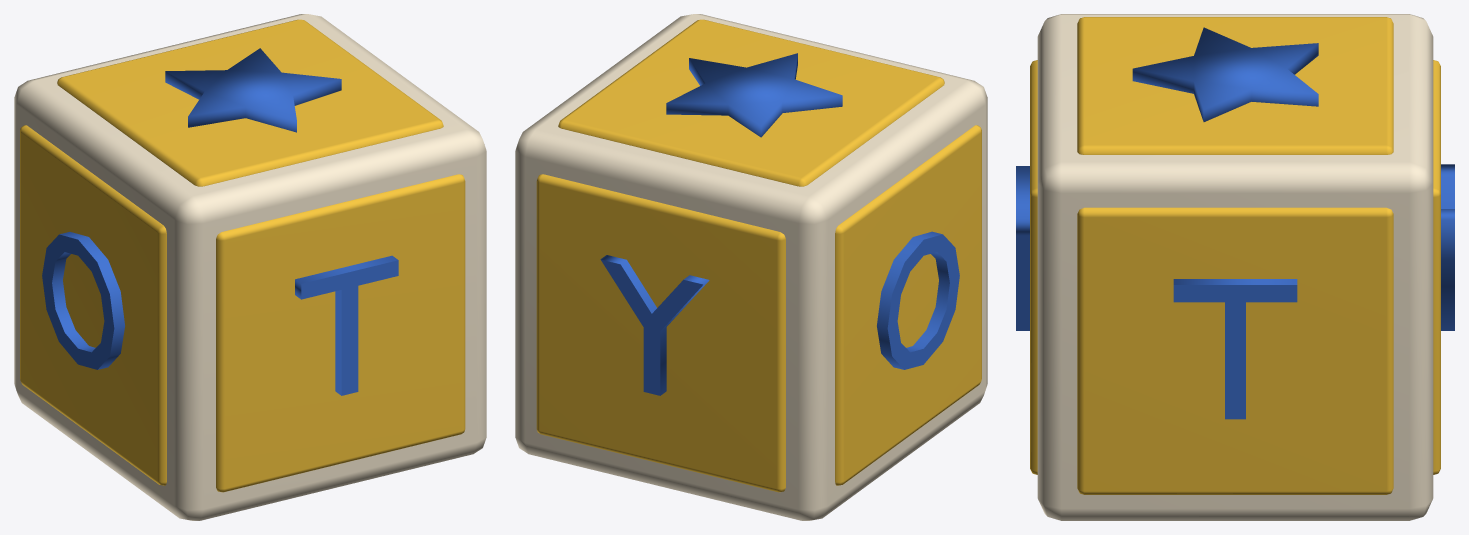
File: toy_block_yellow.glb
The picture shows the model from 3 angles, left to right: view 1: azimuth 30°, elevation 25°; view 2: azimuth 150°, elevation 25°; view 3: azimuth 270°, elevation 25°; orthographic projection. The views are drawn at different scales.
Parts seen in each view (by area): view 1: toy_block_yellow; view 2: toy_block_yellow; view 3: toy_block_yellow.
Part boxes in pixels (x1,y1,x2,y2): toy_block_yellow: (14, 14, 486, 520); toy_block_yellow: (515, 14, 987, 520); toy_block_yellow: (1016, 14, 1454, 520).
Size of the model in its own units: 2.66 by 2.53 by 2.66.
